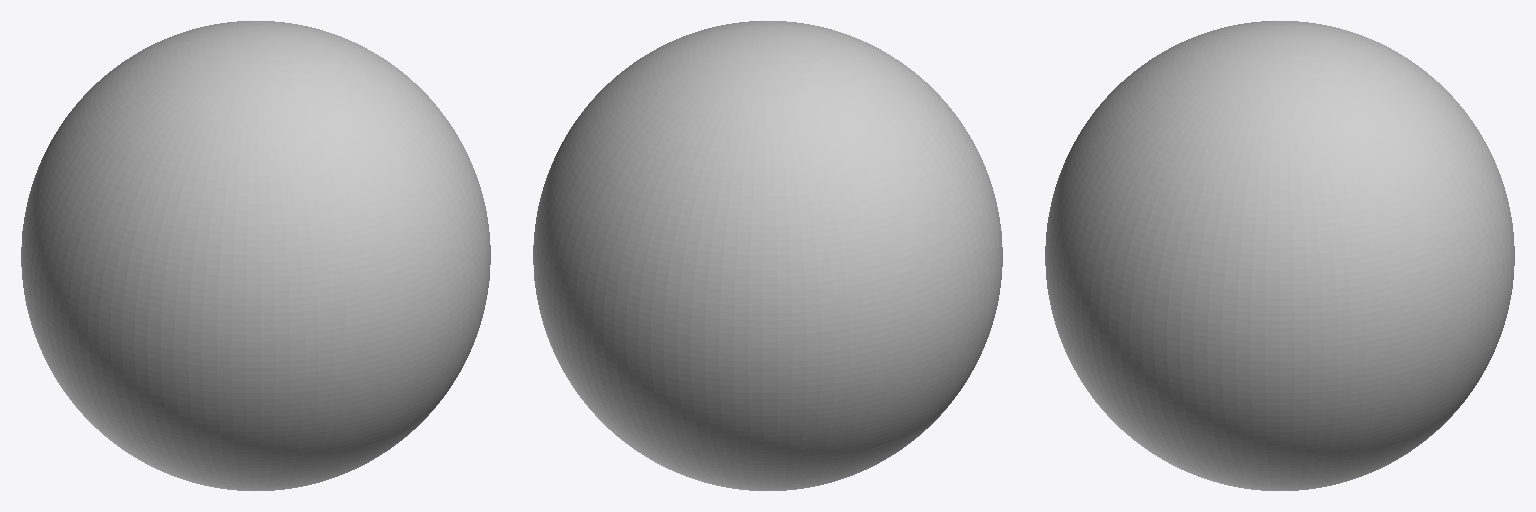
The model's file is moon.obj.
The picture shows the model from 3 angles: view 1: azimuth 30°, elevation 25°; view 2: azimuth 150°, elevation 25°; view 3: azimuth 270°, elevation 25°; orthographic projection.
Parts seen in each view (by area): view 1: Moon_Sphere; view 2: Moon_Sphere; view 3: Moon_Sphere.
Boxes of the visible parts, <box> form: Moon_Sphere: <box>21,21,490,490</box>; Moon_Sphere: <box>533,21,1002,490</box>; Moon_Sphere: <box>1045,21,1514,490</box>.
Size of the model in its own units: 1.99 by 2 by 1.99.